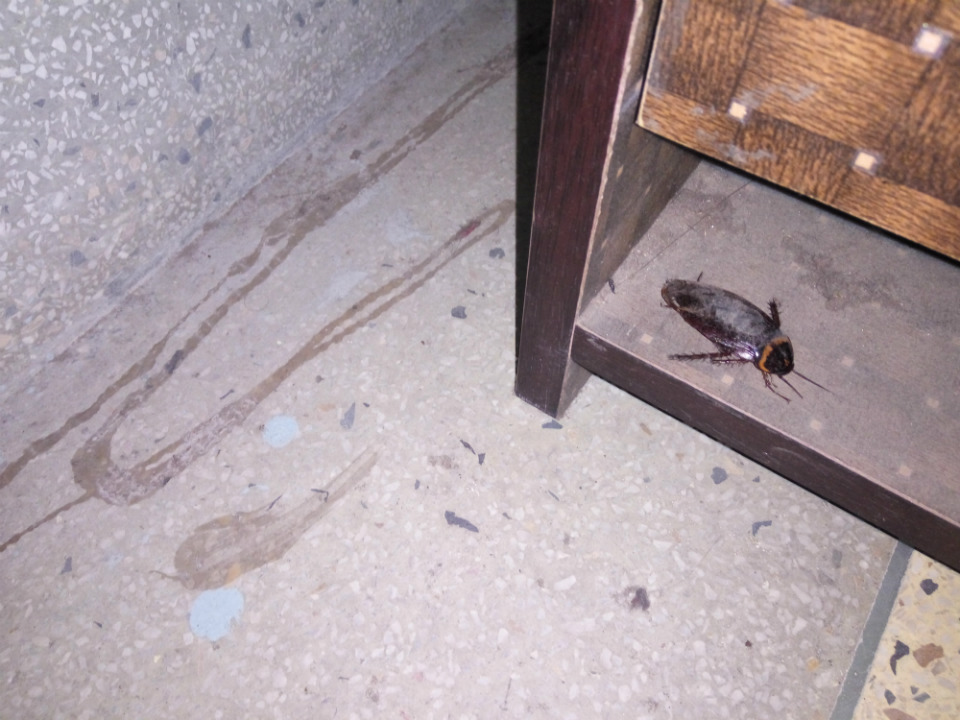cockroach: (611, 250, 855, 408)
